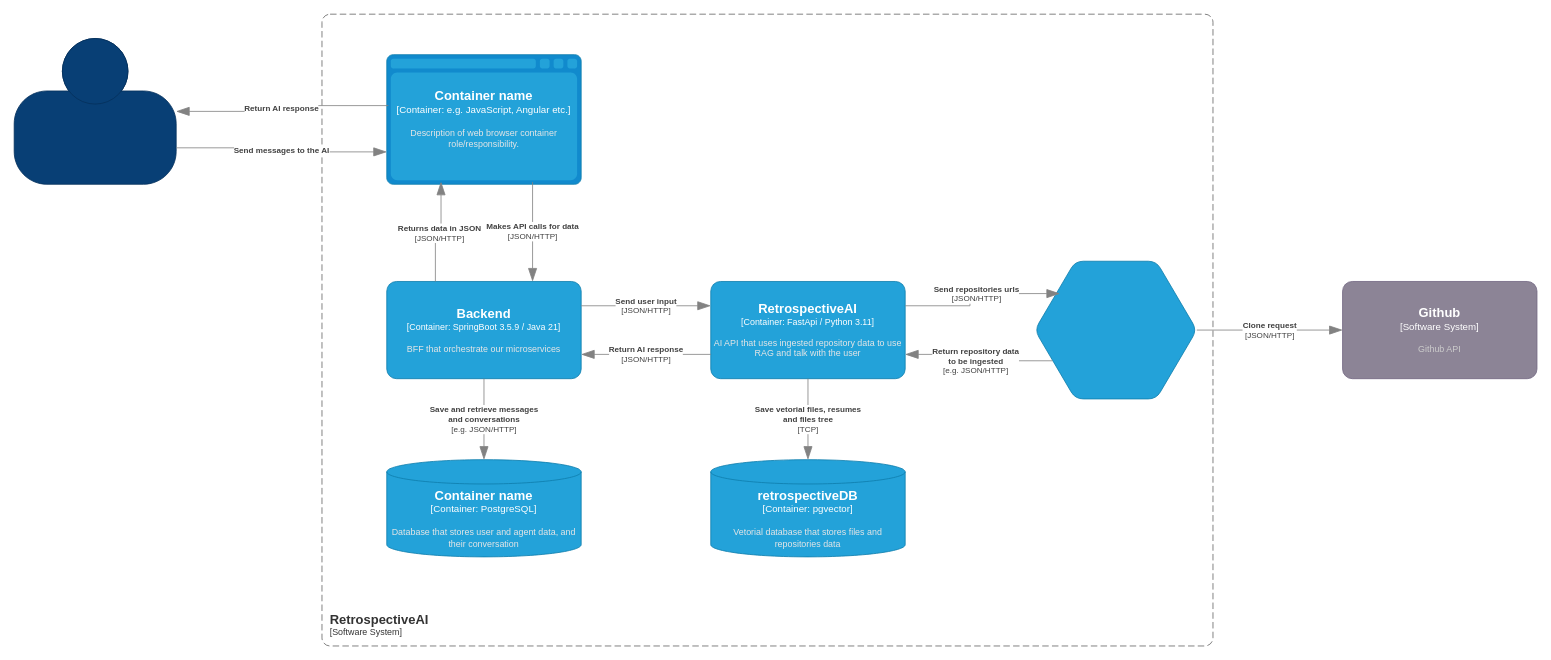
Some shapes in this 1551 by 660 pixel diagram are drawn without their labels. Each missing label, with the centre of its shape:
GitCrawler [Container: Golang] Fetches and return repository data and resumes: the point at 1115,329
User [Person] User that talks with the AI: the point at 94,111
